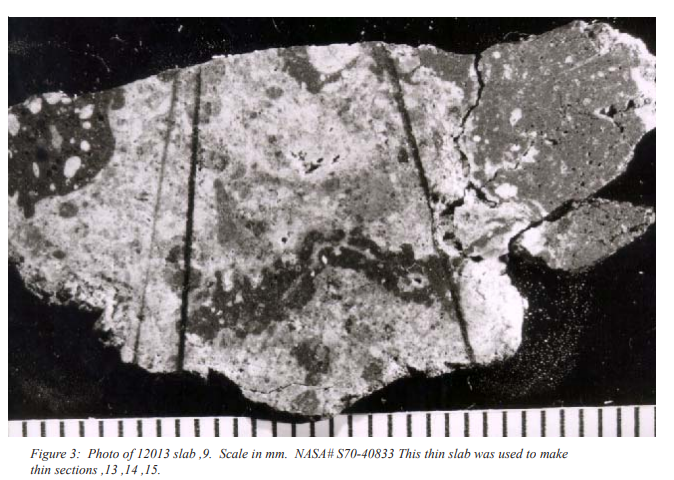Breccia: (8, 44, 617, 400)
